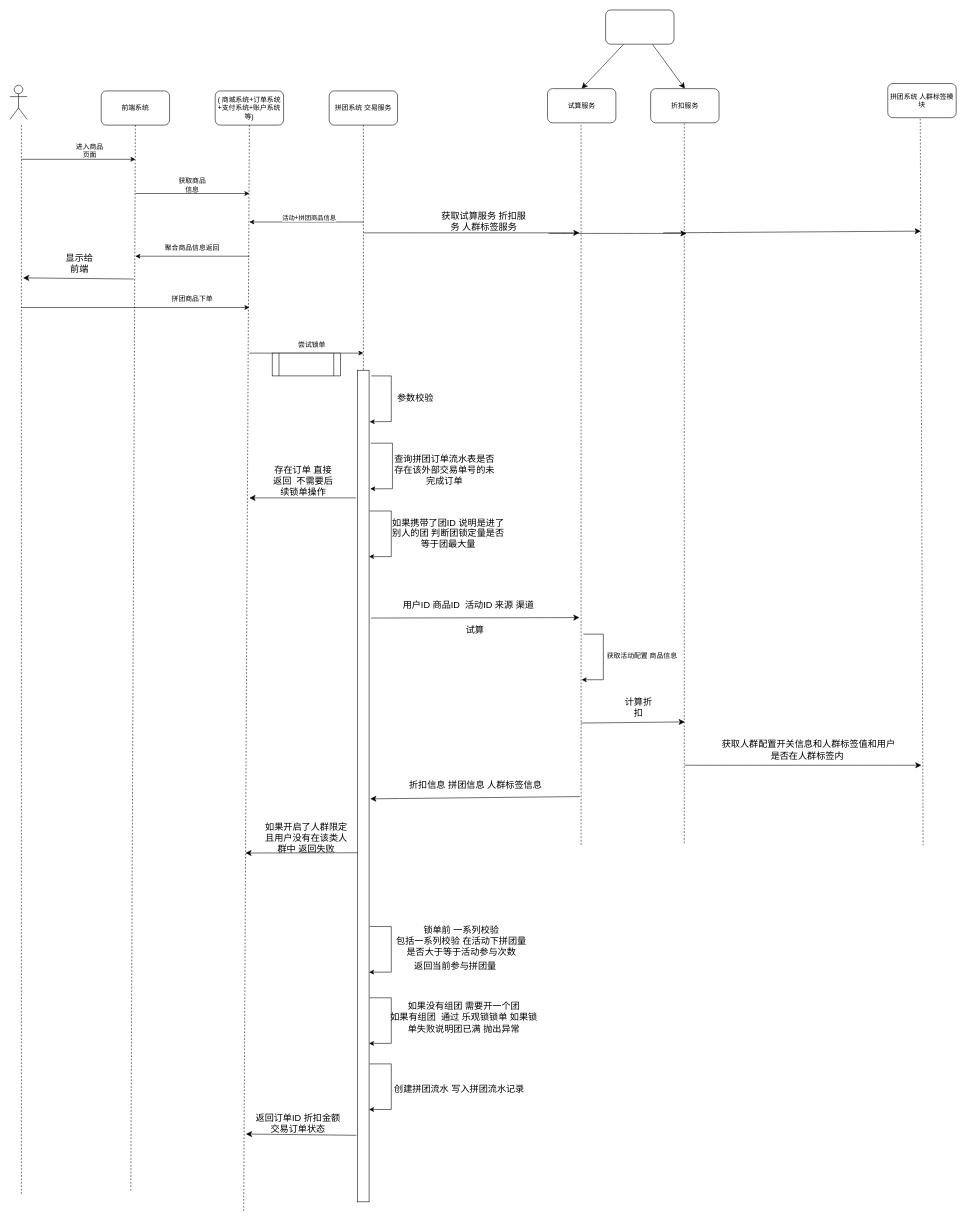
Image size: 966x1223. Some labels were removed from this diagram. The centre of each missing label's shape, as x and y in pixels:
"Actor" belongs at pixel 18 102.
"商品，活动ID 外部交易单号..." belongs at pixel 306 364.
"拼团系统 活动服务" belongs at pixel 639 26.
